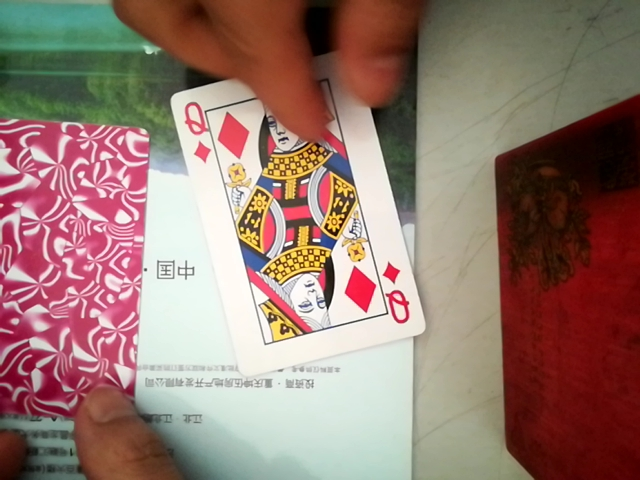fk q: (158, 72, 433, 385)
